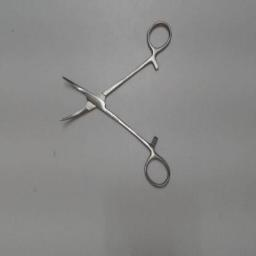Crile Artery Forceps: (54, 17, 174, 191)
